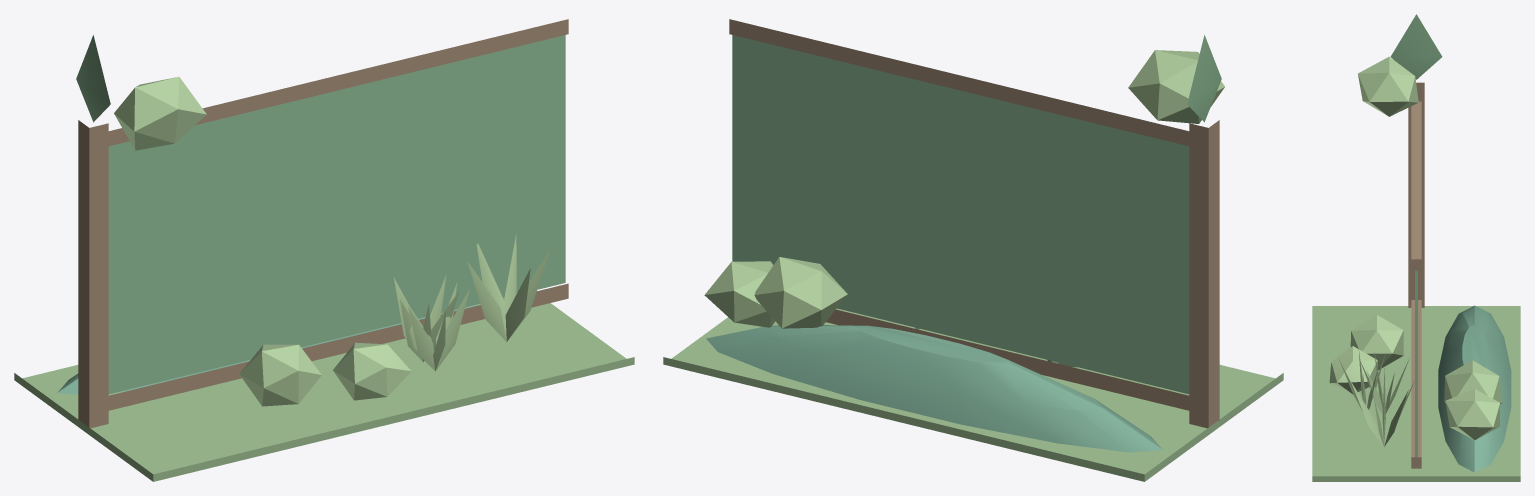
File: v3_panel.glb
3 renders of one model, left to right at view 1: azimuth 30°, elevation 25°; view 2: azimuth 150°, elevation 25°; view 3: azimuth 270°, elevation 25°, orthographic. The views are drawn at different scales.
Visible parts, largest first — view 1: Infill, Safety_Pad, Foliage, Rails, Posts, Grass_Tufts, Leaf_Crests, Terrain; view 2: Infill, Terrain, Safety_Pad, Foliage, Rails, Posts, Leaf_Crests; view 3: Safety_Pad, Foliage, Terrain, Rails, Grass_Tufts, Posts, Leaf_Crests, Infill.
Boxes of the visible parts, bbox=[...] form: Infill: bbox=[108, 35, 565, 394]; Safety_Pad: bbox=[14, 298, 634, 481]; Foliage: bbox=[114, 77, 411, 406]; Rails: bbox=[108, 19, 568, 410]; Posts: bbox=[78, 120, 108, 428]; Grass_Tufts: bbox=[393, 234, 550, 371]; Leaf_Crests: bbox=[76, 35, 110, 122]; Terrain: bbox=[57, 304, 479, 394]; Infill: bbox=[732, 35, 1189, 394]; Terrain: bbox=[706, 325, 1162, 452]; Safety_Pad: bbox=[663, 308, 1283, 481]; Foliage: bbox=[704, 50, 1224, 367]; Rails: bbox=[729, 19, 1189, 410]; Posts: bbox=[1189, 120, 1219, 428]; Leaf_Crests: bbox=[1187, 35, 1221, 122]; Safety_Pad: bbox=[1312, 306, 1520, 481]; Foliage: bbox=[1329, 56, 1502, 440]; Terrain: bbox=[1438, 305, 1511, 472]; Rails: bbox=[1411, 101, 1421, 468]; Grass_Tufts: bbox=[1338, 349, 1414, 446]; Posts: bbox=[1408, 82, 1424, 307]; Leaf_Crests: bbox=[1390, 14, 1442, 79]; Infill: bbox=[1415, 270, 1417, 457].
Size of what is drawn, in the model's own units: 2 by 1.57 by 1.
